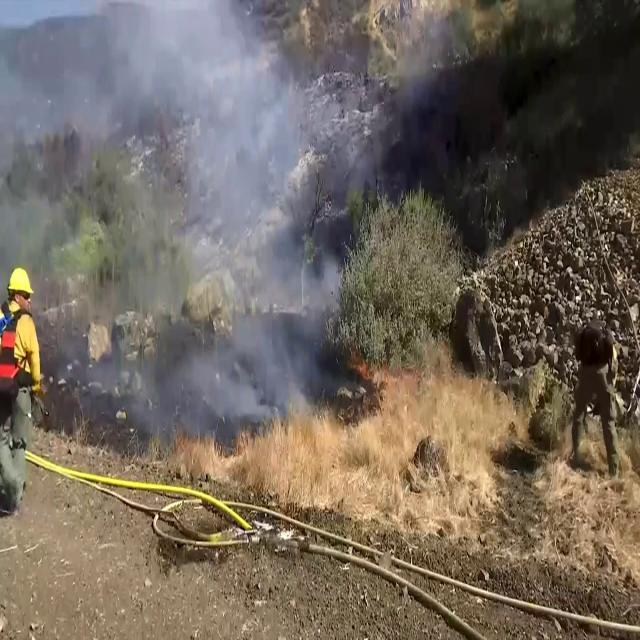Smoke: (97, 1, 349, 442)
